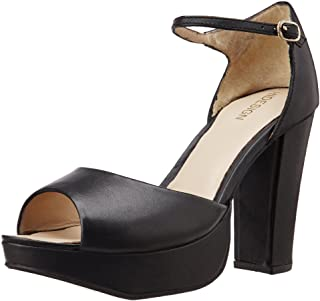shoes: (1, 1, 320, 299)
